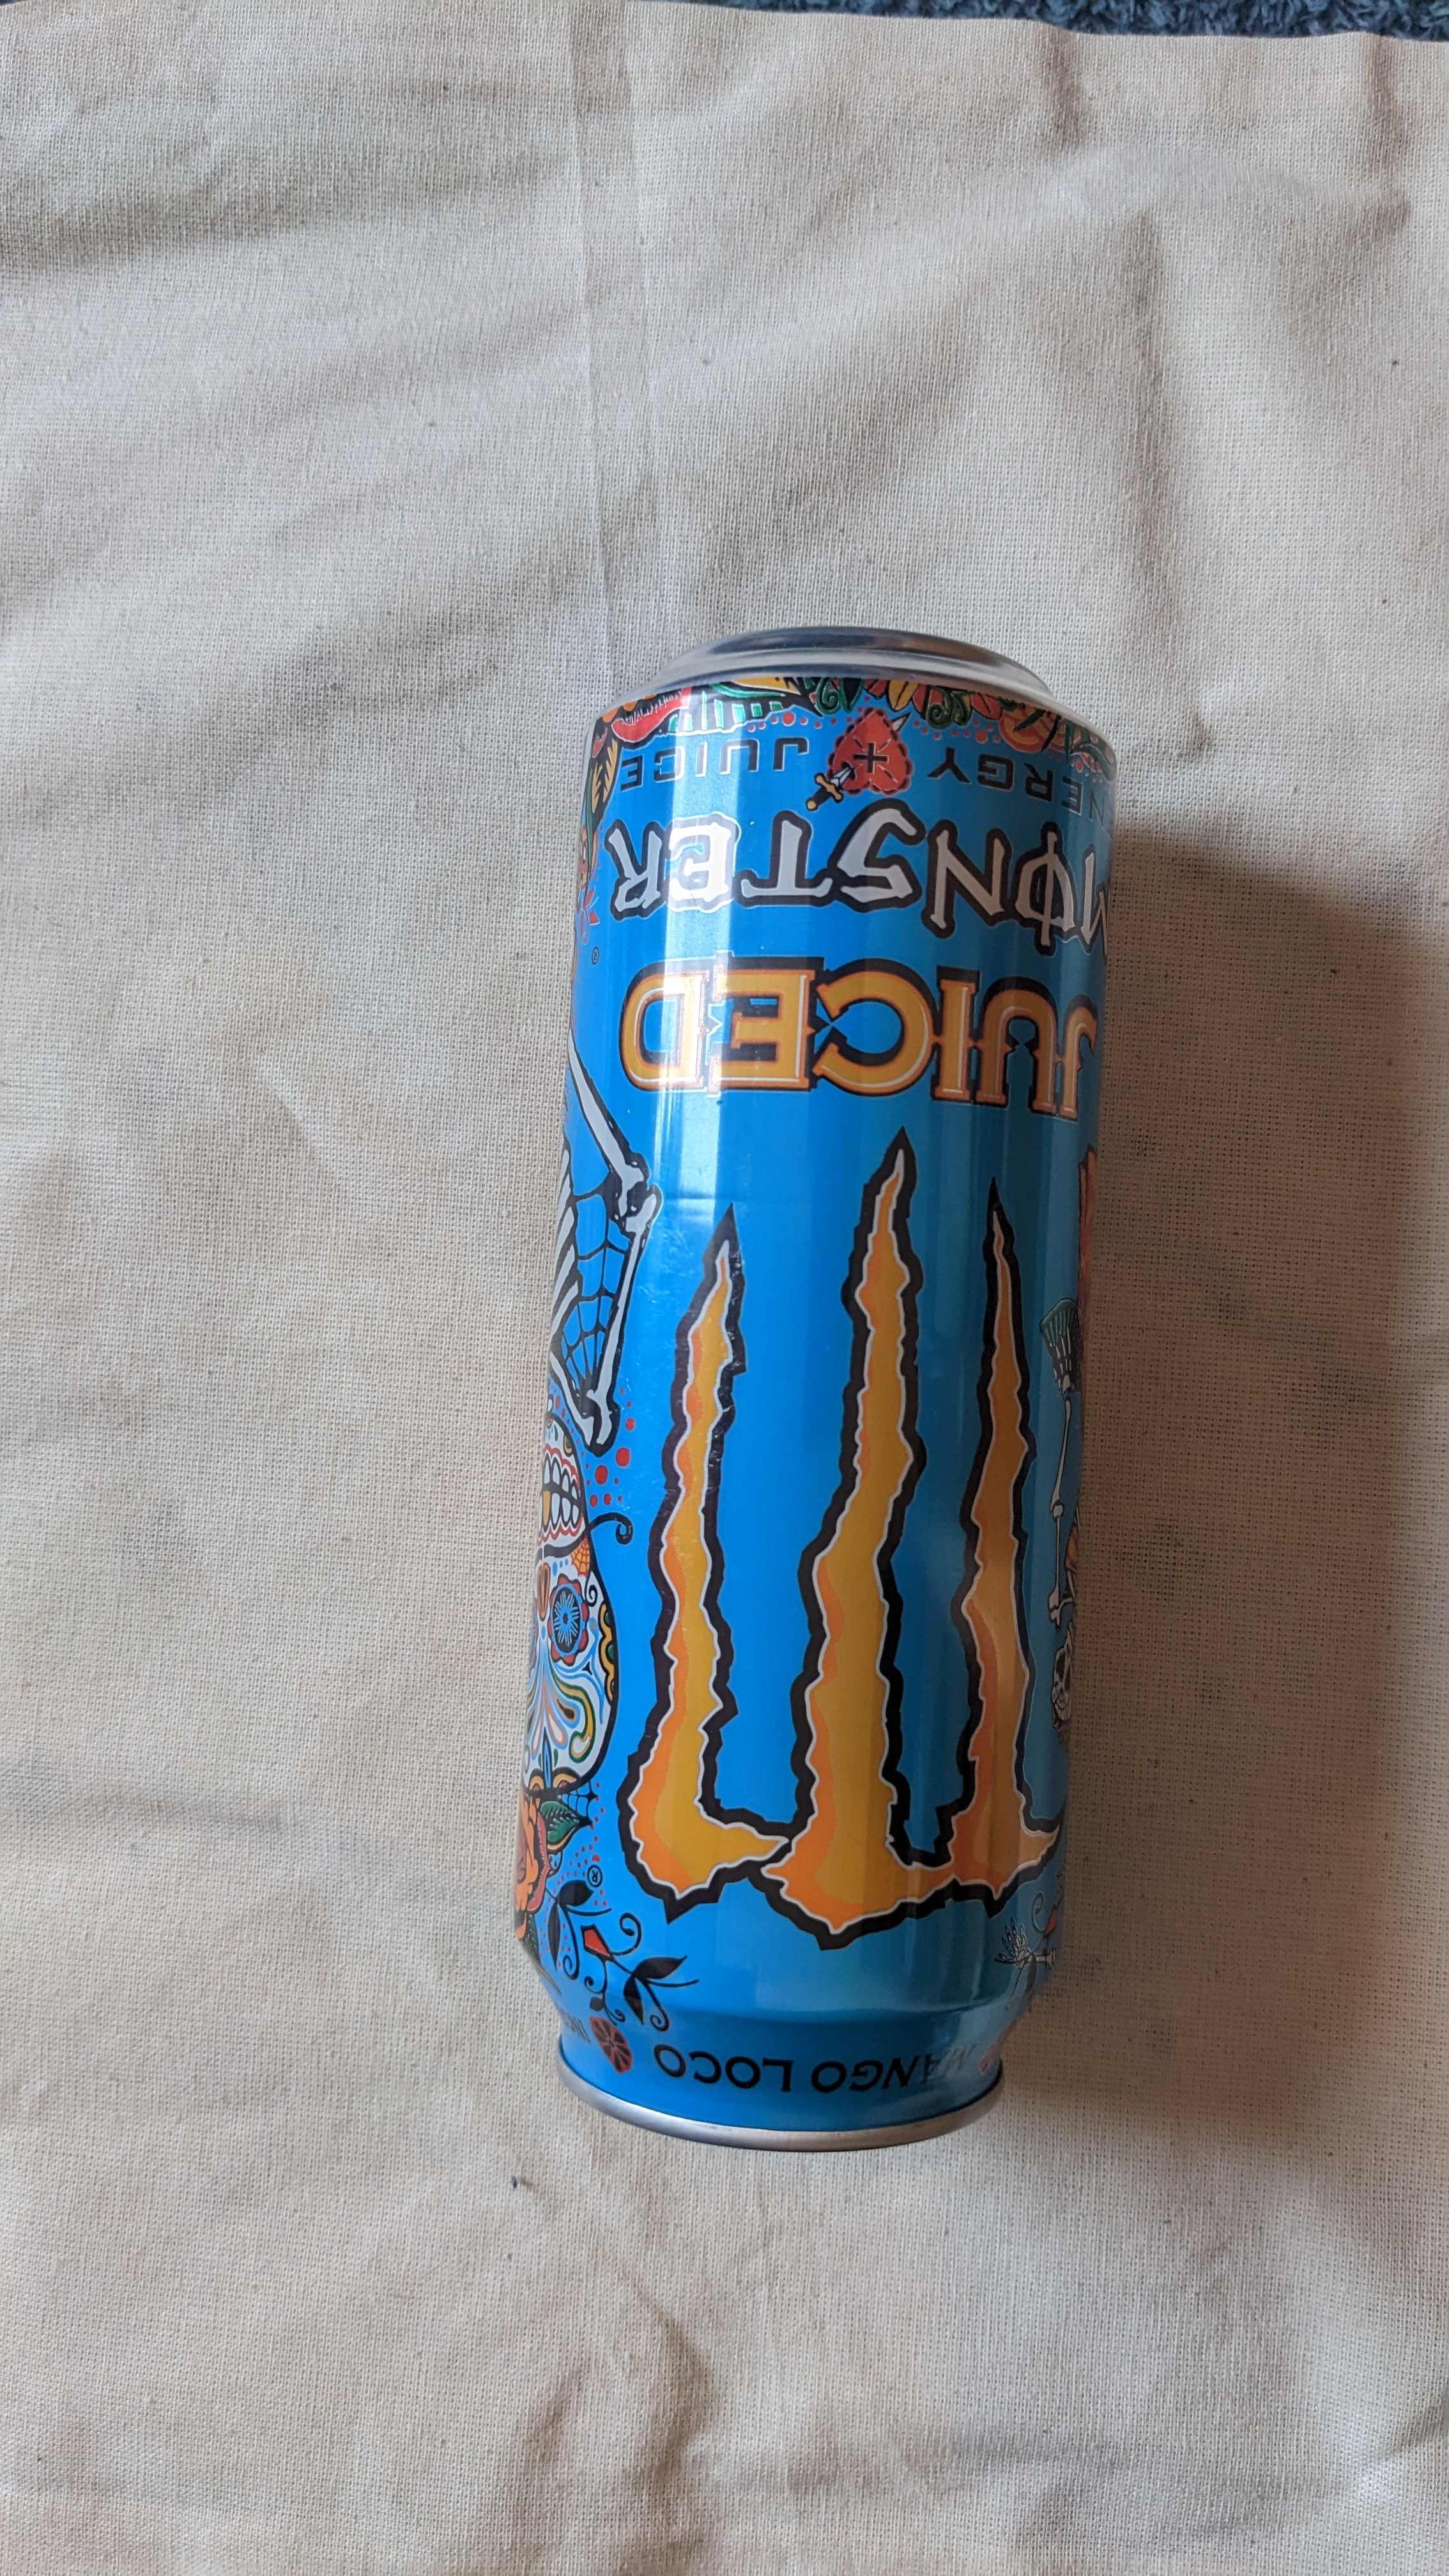monster: (504, 605, 1116, 2181)
